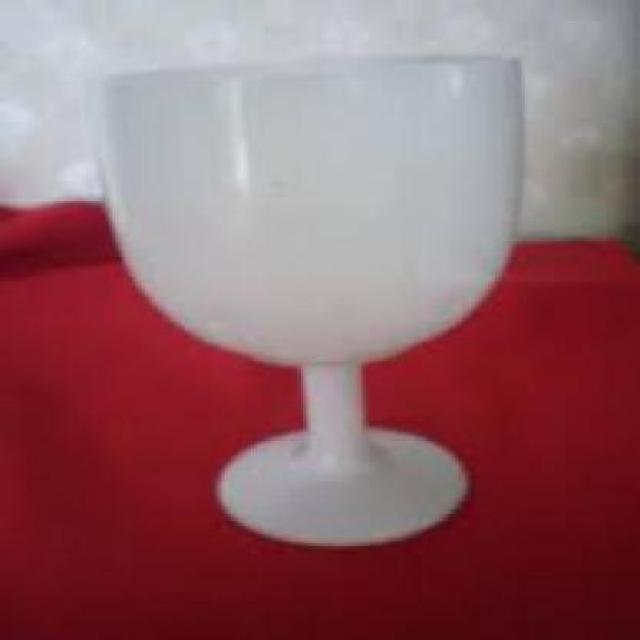kaca: (92, 49, 525, 543)
